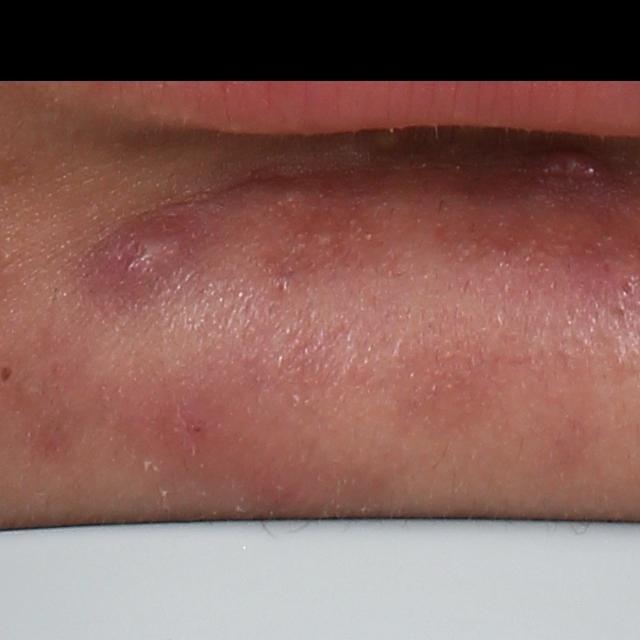nevus: (0, 364, 15, 383)
papule: (81, 209, 211, 302), (519, 143, 627, 196)
